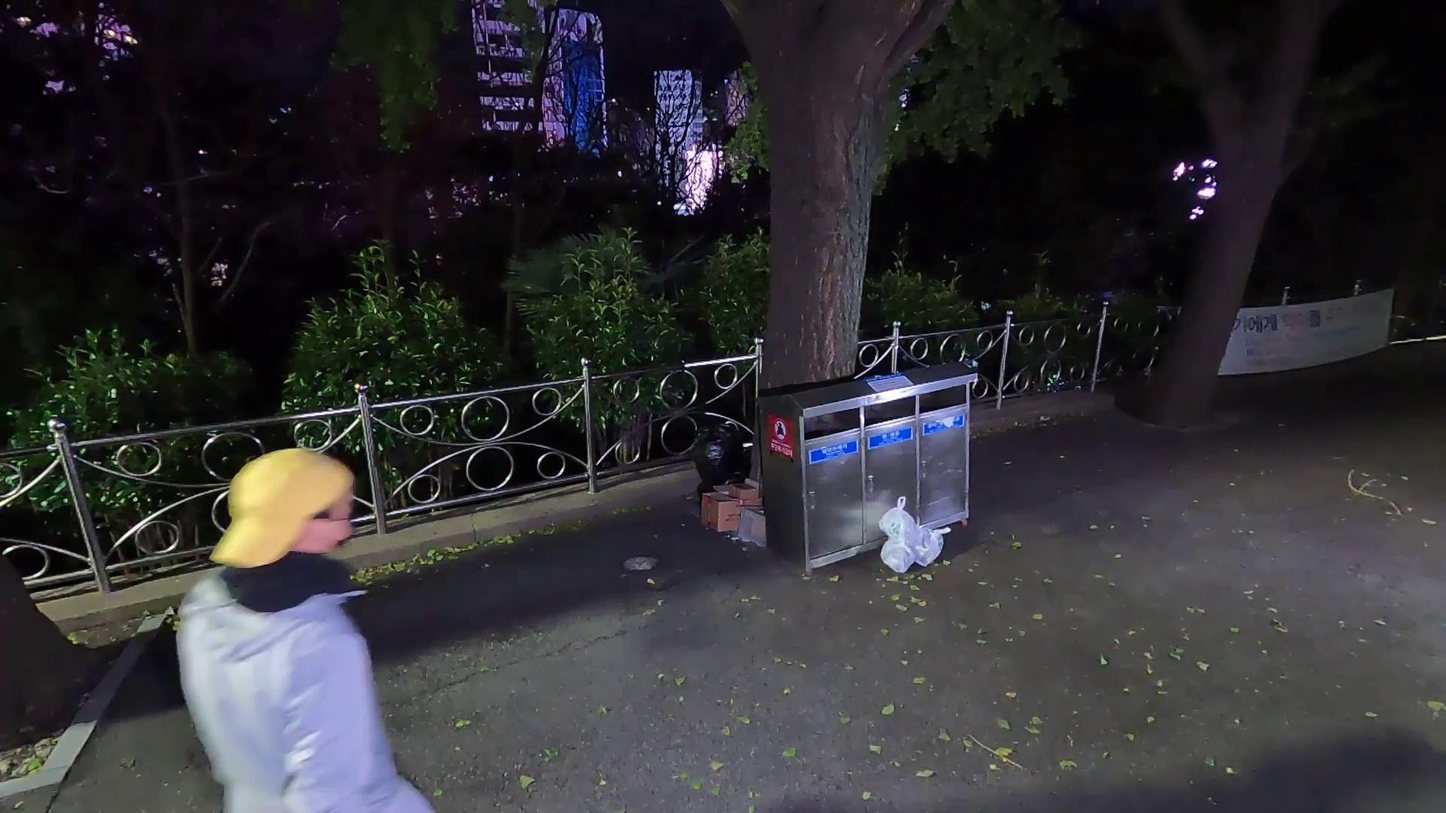person: (167, 441, 444, 813)
trash: (692, 418, 752, 509), (698, 483, 763, 533), (898, 520, 952, 566), (879, 521, 914, 575), (878, 496, 918, 543), (732, 507, 768, 548), (720, 471, 759, 499)
